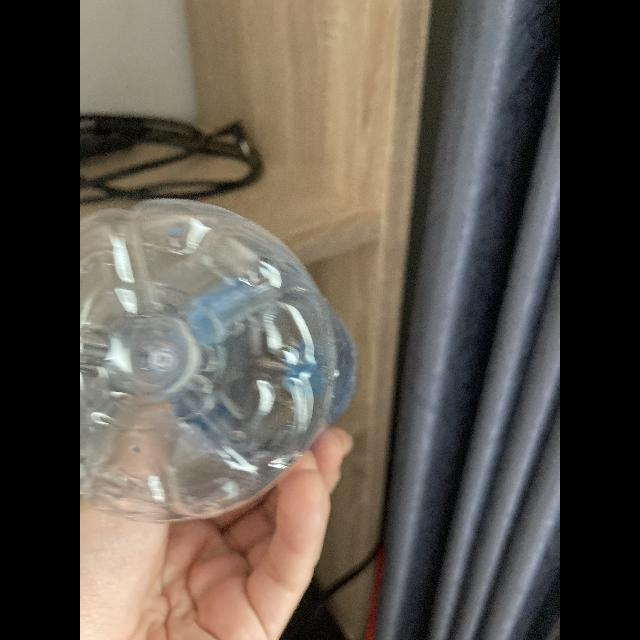plastic_bottle: (80, 172, 366, 542)
